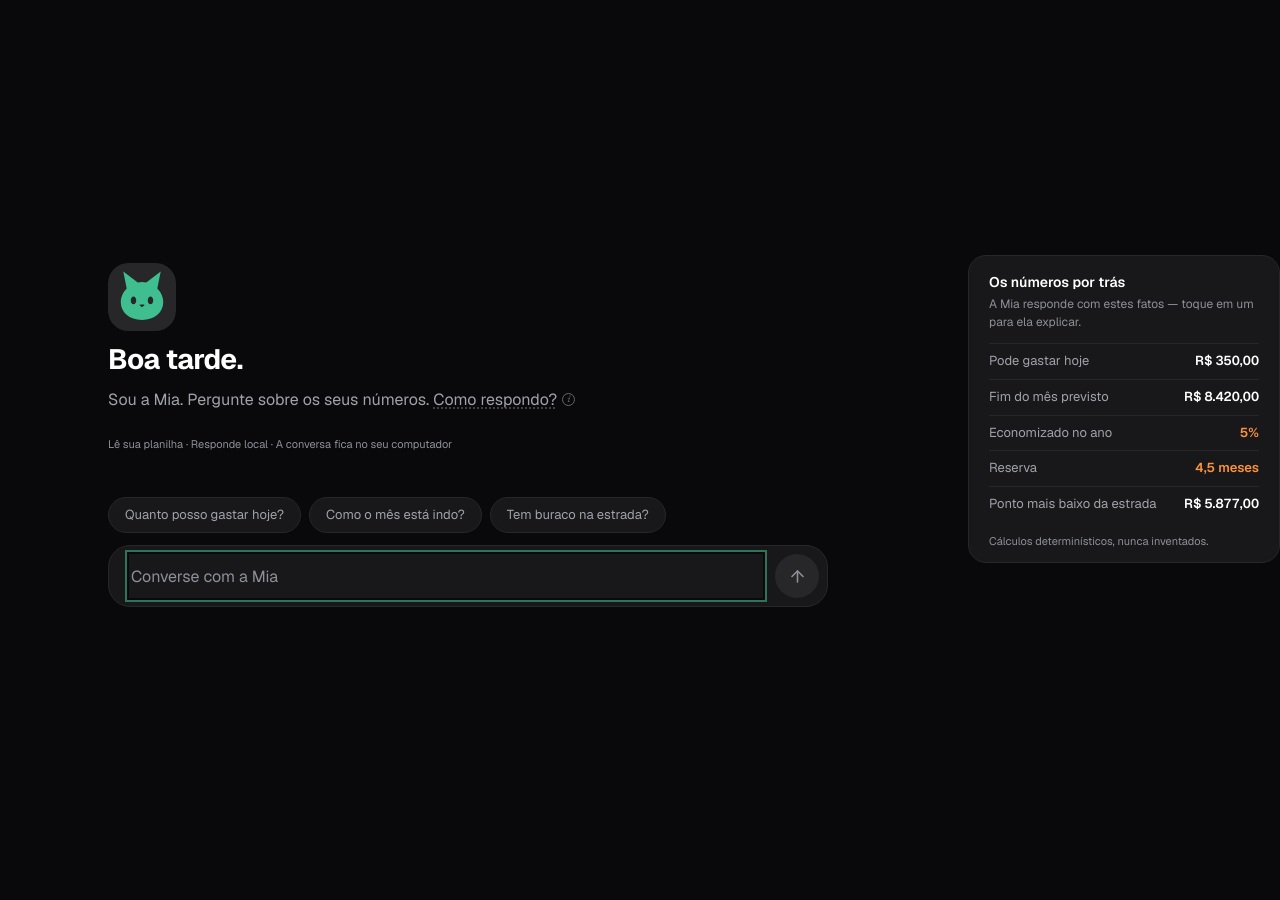
Test case: CopilotScreen (Mia) › mia_show_receipt › desligada: recusa não tem recibo e não muda
In the field named "Mensagem para a Mia": point(446, 576) [129,554,763,598], type "onde gastei mais?"
Then press Enter
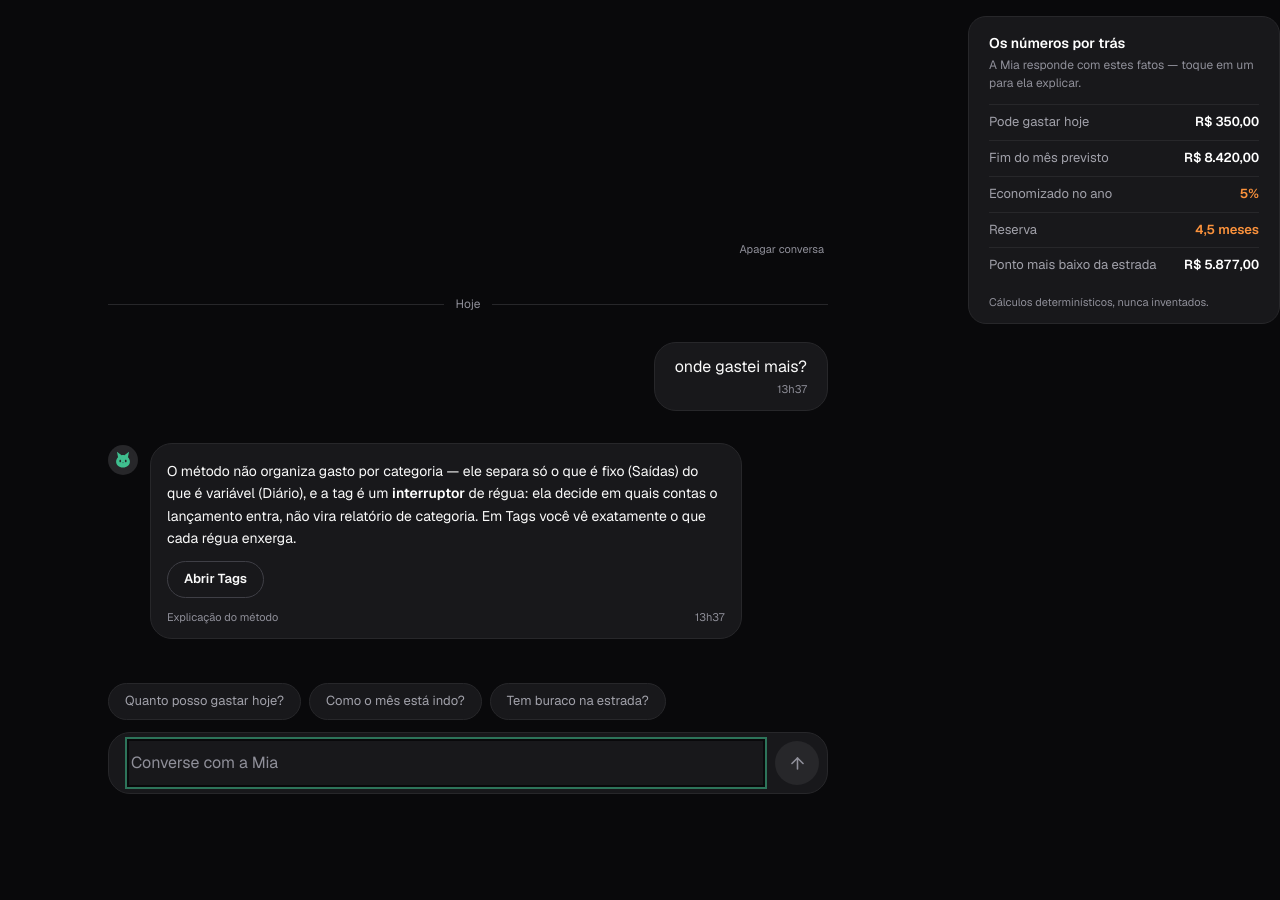
Expected: the button "Abrir Tags" is shown, [167,561,264,598]
